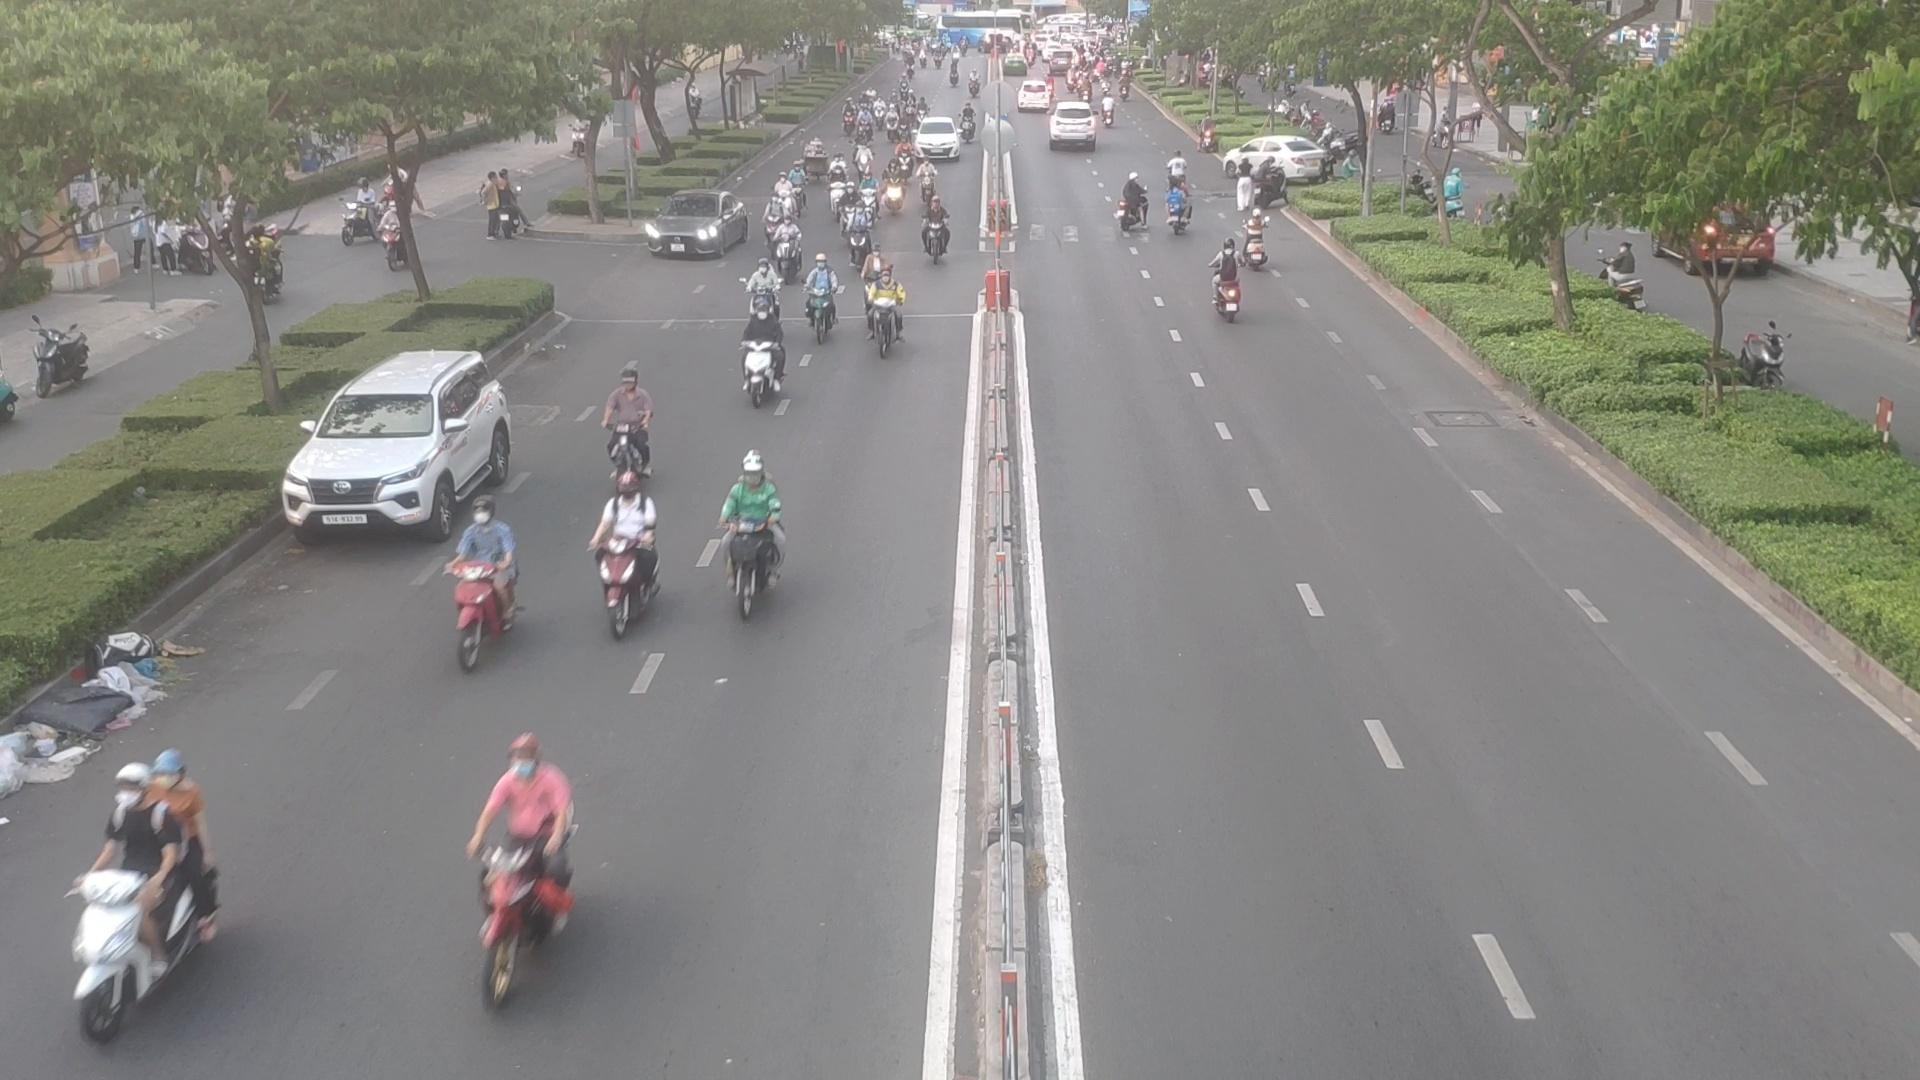car: (284, 352, 516, 546), (1213, 117, 1331, 185), (647, 193, 752, 261), (914, 119, 964, 161)
motorbike: (51, 750, 237, 1069), (459, 728, 592, 1007), (571, 462, 669, 625), (455, 493, 527, 661), (716, 448, 783, 611), (591, 371, 653, 483), (862, 272, 907, 363), (1208, 232, 1249, 324), (737, 298, 771, 396), (804, 257, 837, 335), (1116, 175, 1150, 229), (920, 196, 949, 253), (775, 218, 802, 280), (1234, 208, 1262, 264), (881, 157, 906, 211), (1166, 179, 1189, 229), (761, 200, 782, 243), (825, 166, 844, 214), (916, 156, 938, 195), (858, 171, 878, 212), (1166, 146, 1187, 185), (837, 185, 856, 227), (852, 208, 865, 261), (853, 145, 872, 177)
